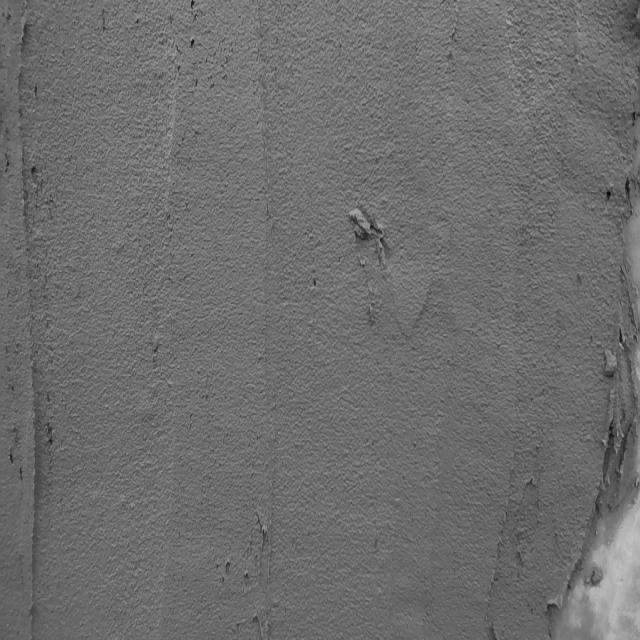trowels marks: (8, 18, 46, 640), (216, 553, 256, 589)
